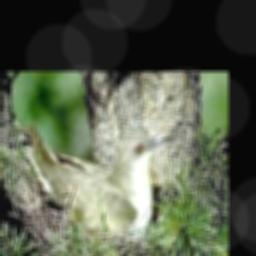Cuckoo: (29, 123, 177, 239)
